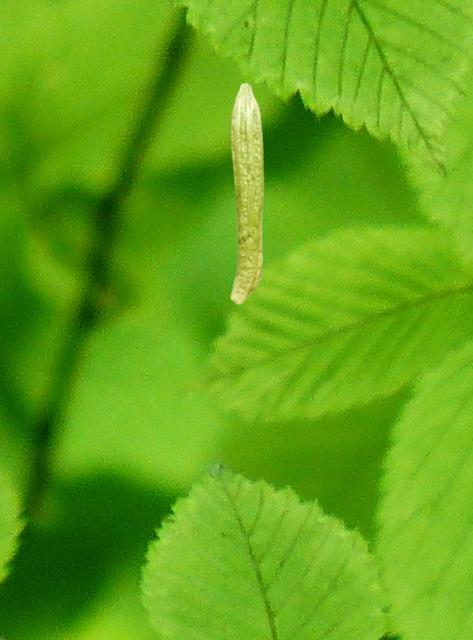ampalaya: (228, 81, 264, 306)
